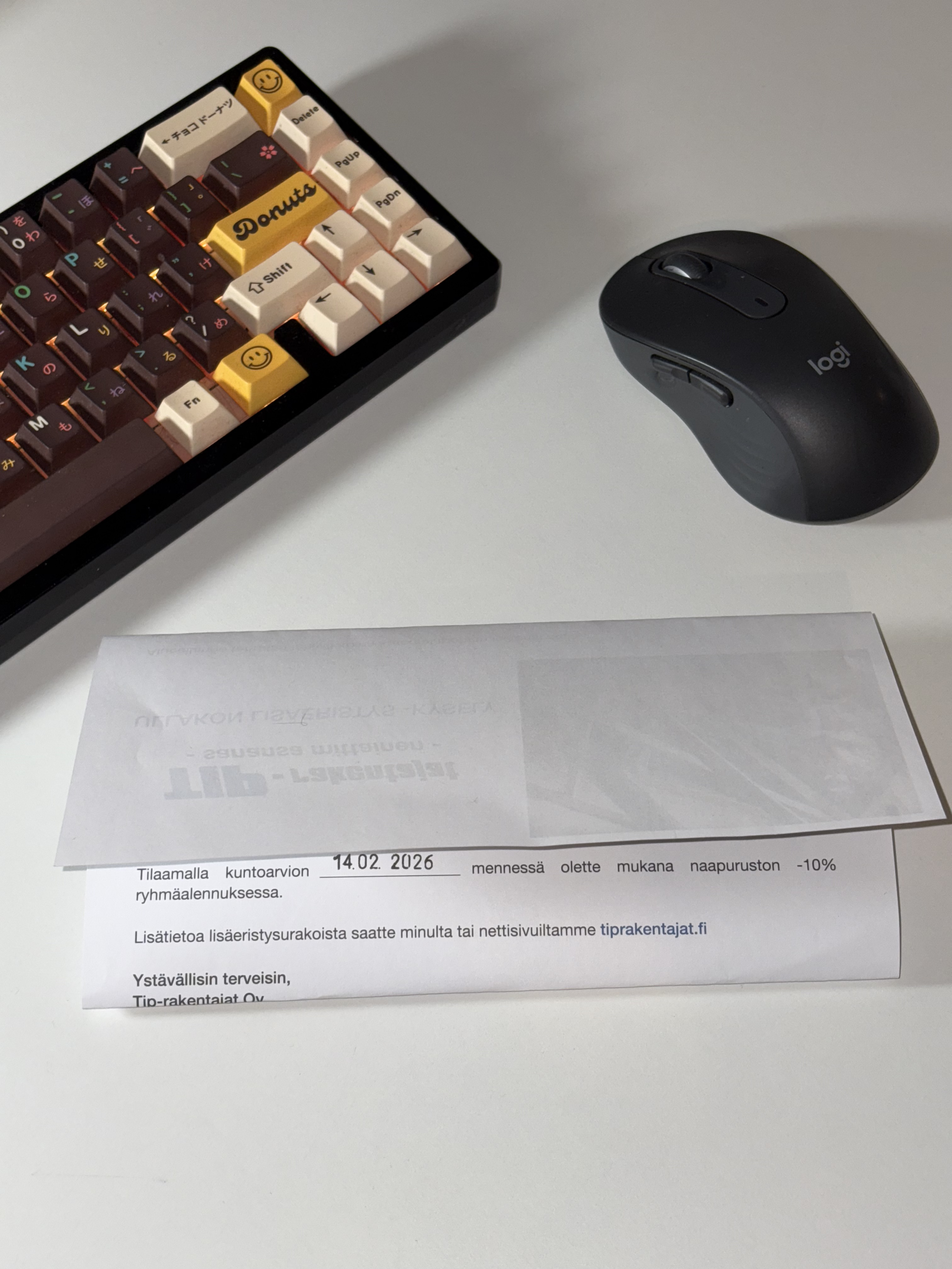paper: (48, 608, 941, 1015)
